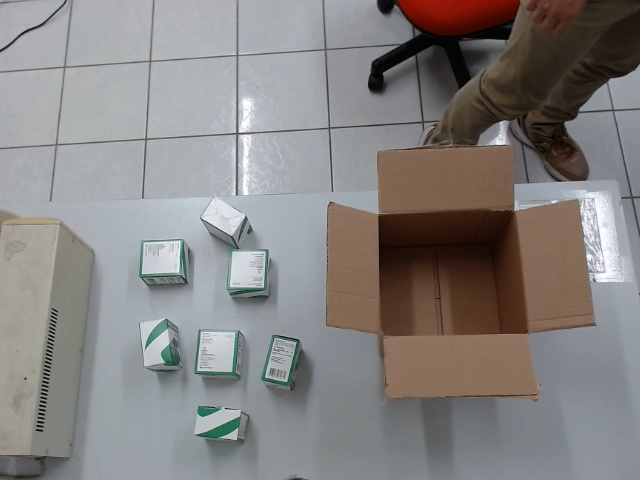caixa_principal: (362, 200, 541, 352)
